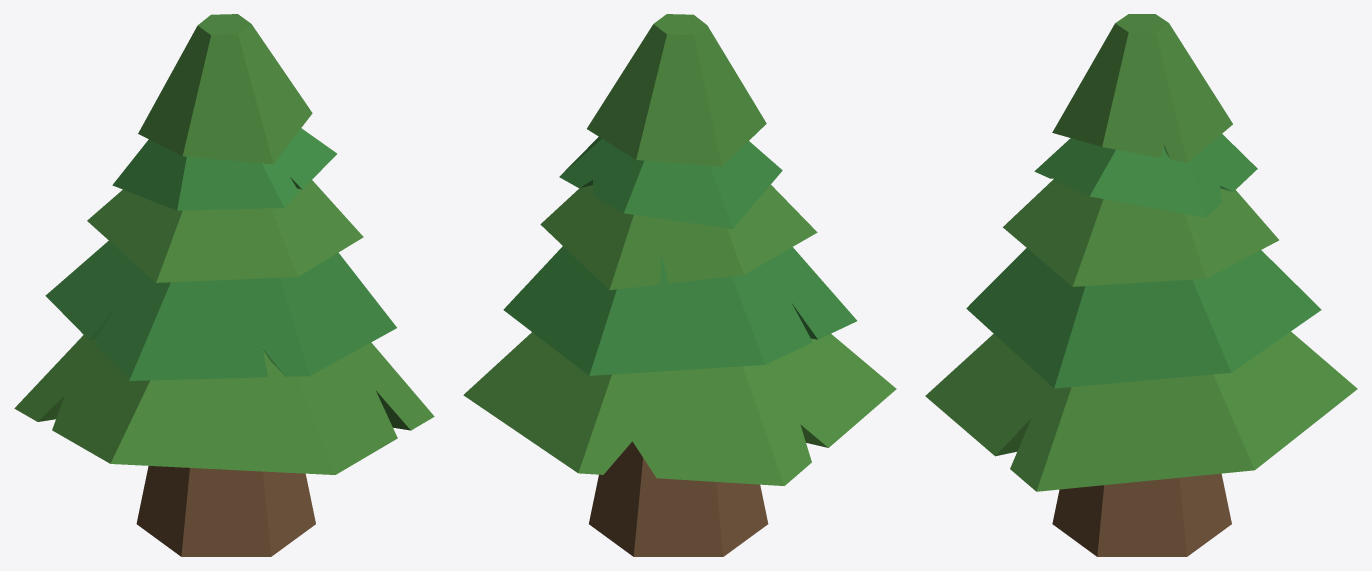
The model's file is tree3.fbx.
3 views of the same model, side by side, from view 1: azimuth 30°, elevation 25°; view 2: azimuth 150°, elevation 25°; view 3: azimuth 270°, elevation 25° (orthographic).
Parts seen in each view (by area): view 1: Cylinder.002, Cylinder.004, Cylinder.009, Cylinder.011, Cylinder.001, Cylinder.010; view 2: Cylinder.002, Cylinder.004, Cylinder.011, Cylinder.009, Cylinder.001, Cylinder.010; view 3: Cylinder.002, Cylinder.004, Cylinder.009, Cylinder.011, Cylinder.001, Cylinder.010.
Part boxes in pixels (bbox=[...]): Cylinder.002: bbox=[14, 335, 434, 474]; Cylinder.004: bbox=[45, 241, 396, 380]; Cylinder.009: bbox=[87, 180, 363, 282]; Cylinder.011: bbox=[138, 14, 312, 164]; Cylinder.001: bbox=[136, 466, 315, 556]; Cylinder.010: bbox=[112, 128, 337, 210]; Cylinder.002: bbox=[463, 332, 896, 485]; Cylinder.004: bbox=[503, 246, 856, 375]; Cylinder.011: bbox=[587, 14, 766, 166]; Cylinder.009: bbox=[540, 185, 817, 290]; Cylinder.001: bbox=[589, 441, 768, 556]; Cylinder.010: bbox=[559, 137, 782, 228]; Cylinder.002: bbox=[925, 331, 1357, 491]; Cylinder.004: bbox=[966, 248, 1321, 388]; Cylinder.009: bbox=[1003, 180, 1278, 286]; Cylinder.011: bbox=[1052, 14, 1232, 162]; Cylinder.001: bbox=[1052, 473, 1231, 556]; Cylinder.010: bbox=[1034, 134, 1257, 217].
Bounding box in the file's own units: 259 × 380 × 298.
